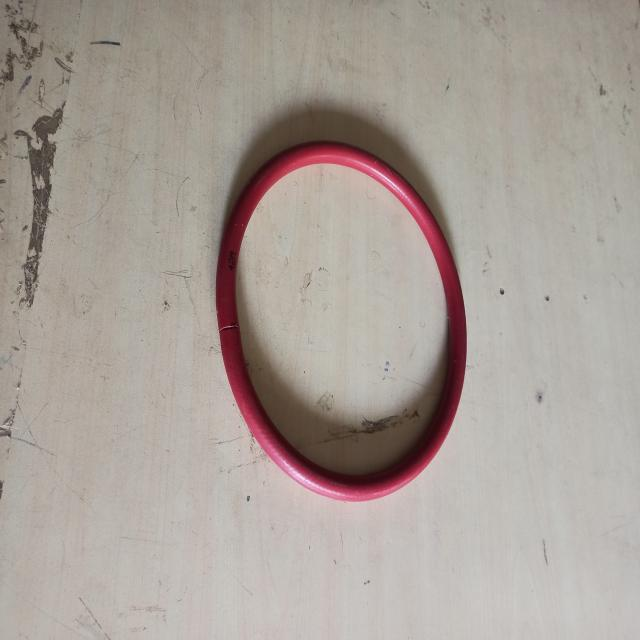daire: (217, 142, 470, 503)
